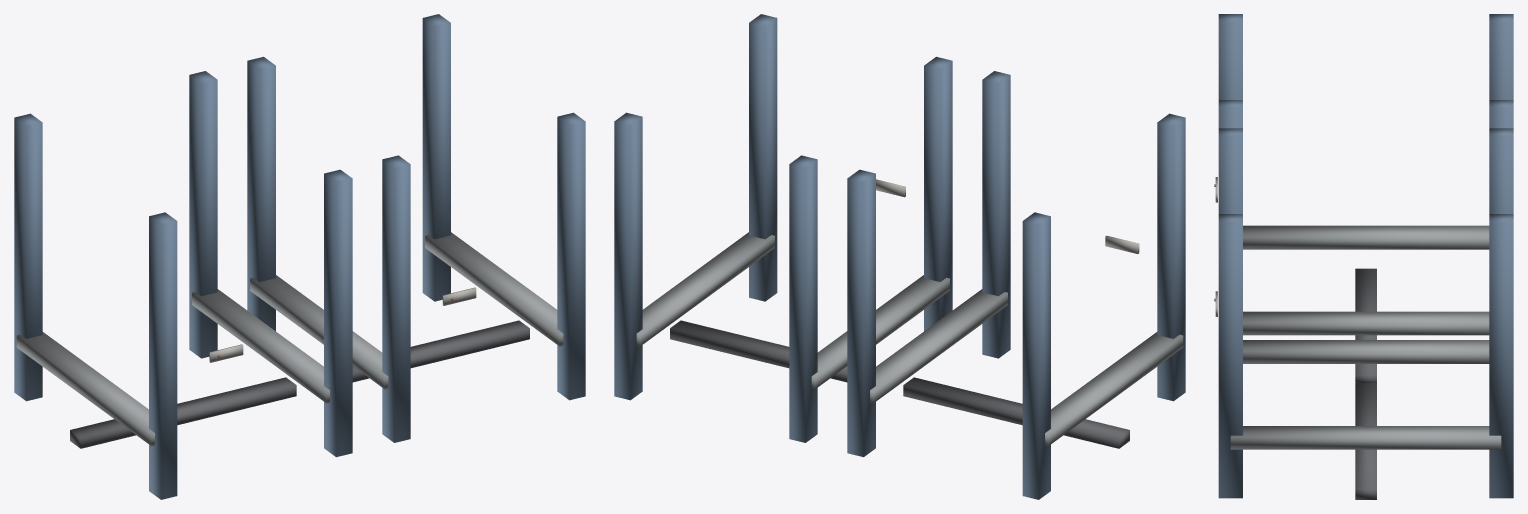
File: four_post_car_lift__cluster.glb
3 renders of one model, left to right at view 1: azimuth 30°, elevation 25°; view 2: azimuth 150°, elevation 25°; view 3: azimuth 270°, elevation 25°, orthographic.
Parts seen in each view (by area): view 1: world; view 2: world; view 3: world.
Part boxes in pixels (x1=…): world: x1=14, y1=14, x2=585, y2=499; world: x1=614, y1=14, x2=1185, y2=499; world: x1=1214, y1=14, x2=1513, y2=499.
Bounding box in the file's own units: 3.85 × 2.25 × 2.21.
